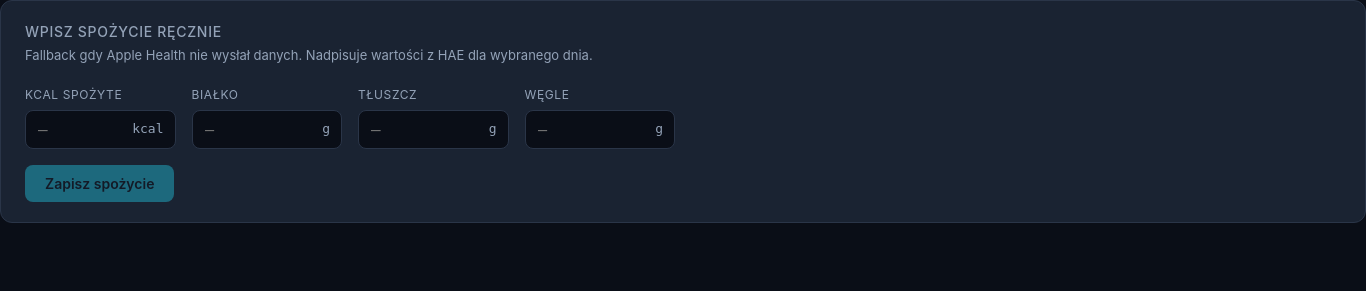
it: ManualNutritionCard › 422 error → banner z PL message
Type "2200" into the number field labelled "Kcal spożyte".
click(100, 129); type("2200")  # box [25,110,176,148]
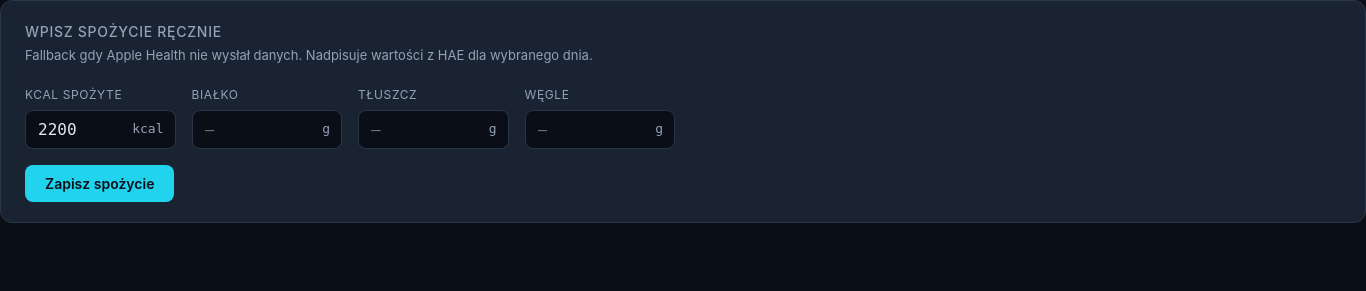
Click the button "Zapisz spożycie".
click(100, 183)  # box [25,164,174,202]
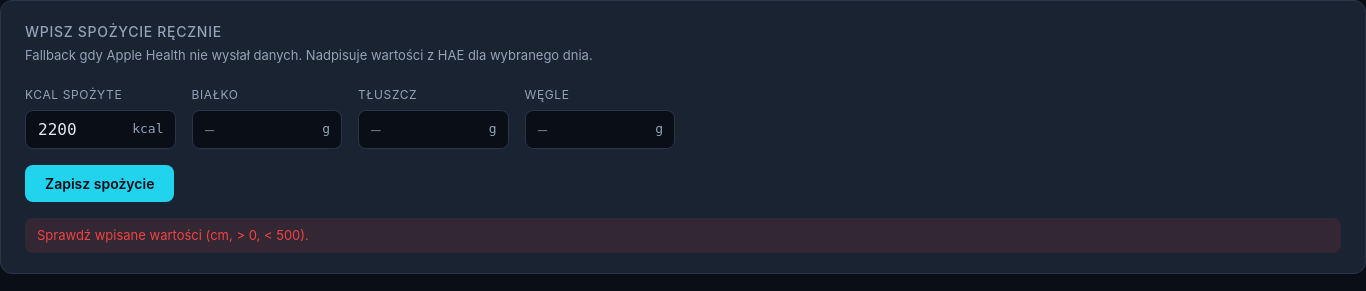
Check: the message shows "Sprawdź wpisane wartości", box [37,226,309,242]
